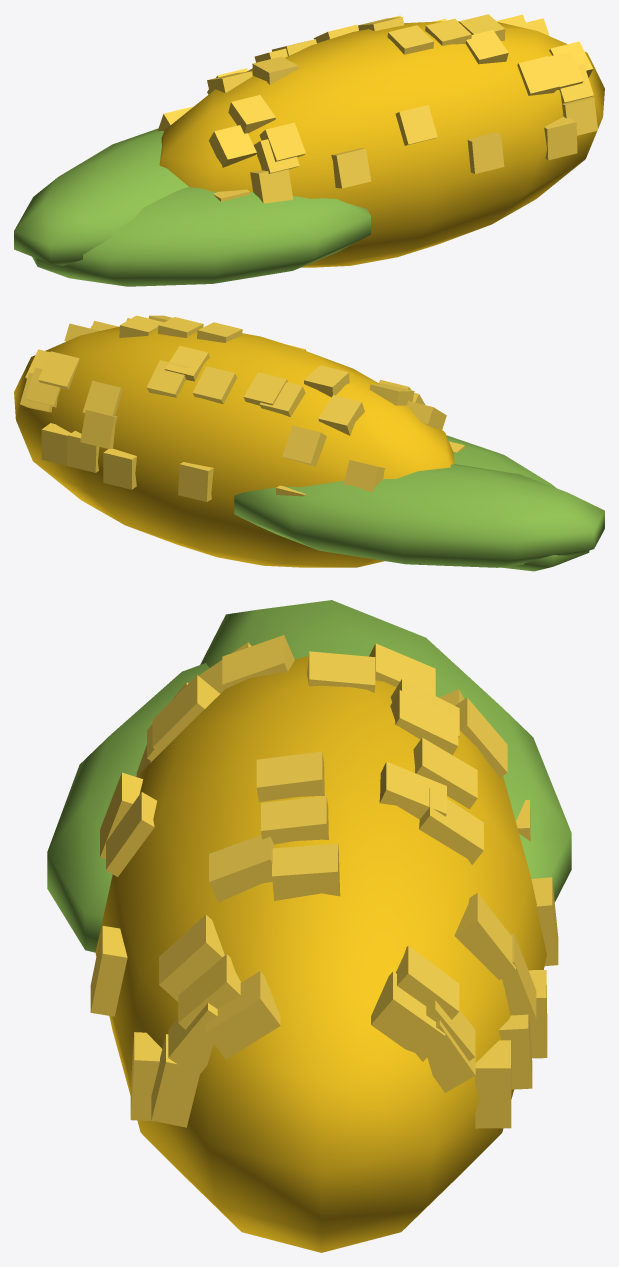
File: corn.glb
3 renders of one model, top to bottom at view 1: azimuth 30°, elevation 25°; view 2: azimuth 150°, elevation 25°; view 3: azimuth 270°, elevation 25°, orthographic. The views are drawn at different scales.
Visible parts, largest first — view 1: corn; view 2: corn; view 3: corn.
Boxes of the visible parts, left/top/right/bottom form: corn: left=14, top=14, right=604, bottom=286; corn: left=14, top=315, right=604, bottom=571; corn: left=47, top=600, right=571, bottom=1252.
Size of the model in its own units: 0.4442 by 0.1532 by 0.1741.
